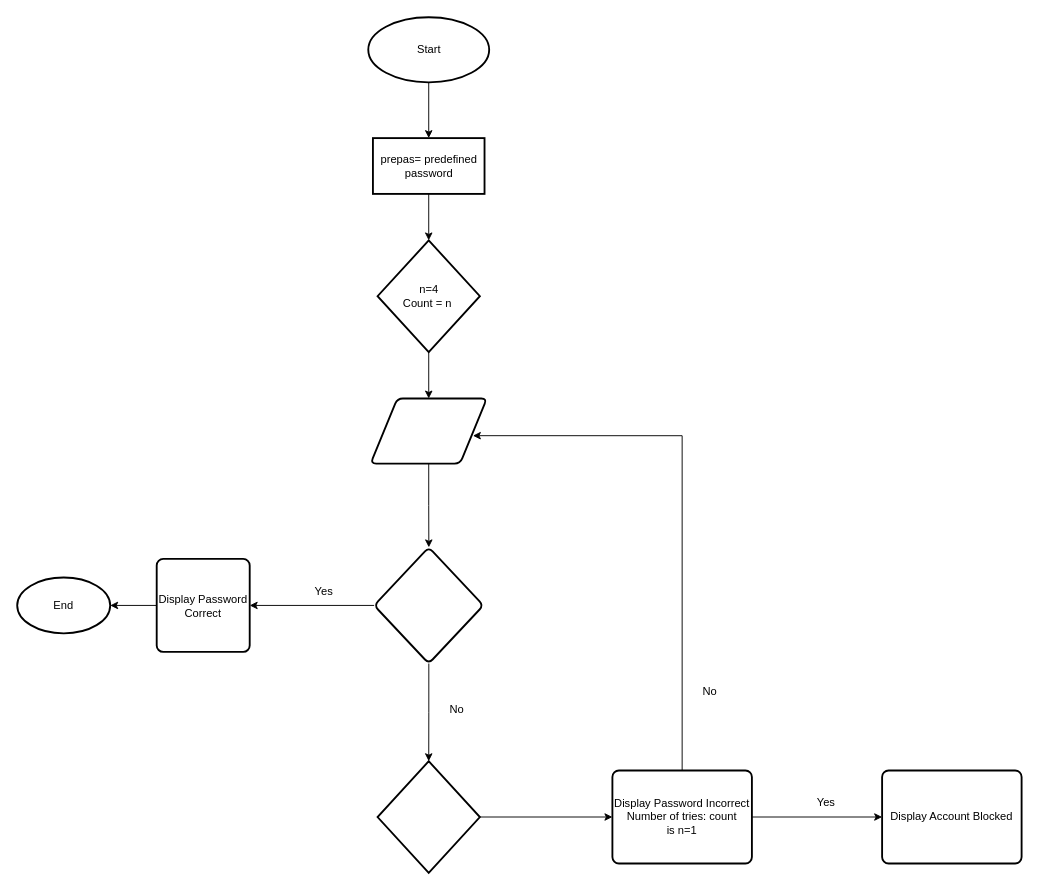
The diagram is 1038 pixels wide and 889 high, and some of its shapes have lost their labels. Each missing label, with the centre of its shape:
"Count = n-1" belongs at [428,816].
"Enter Password userpas" belongs at [428,430].
"Is userpas==prepas" belongs at [428,605].
